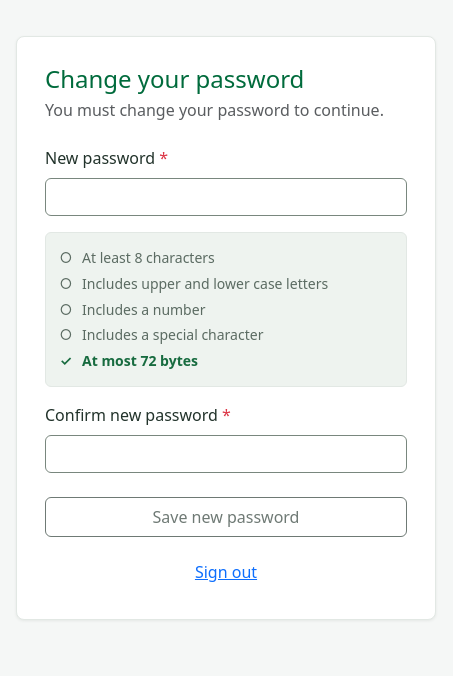
C-02 Change Password gate › shows a retryable message when the gate sign-out fails (AC-06)
Click the button with test id "sign-out-btn" at (226, 572), box [45,553,407,591]
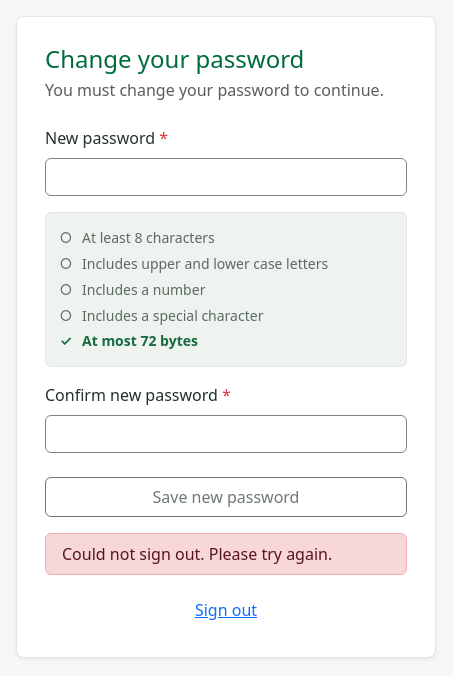
expect the message "Could not sign out. Please try again." is shown: met, box [45,533,407,575]
expect the message with test id "sign-out-error" shows "Could not sign out": met, box [62,543,332,565]
